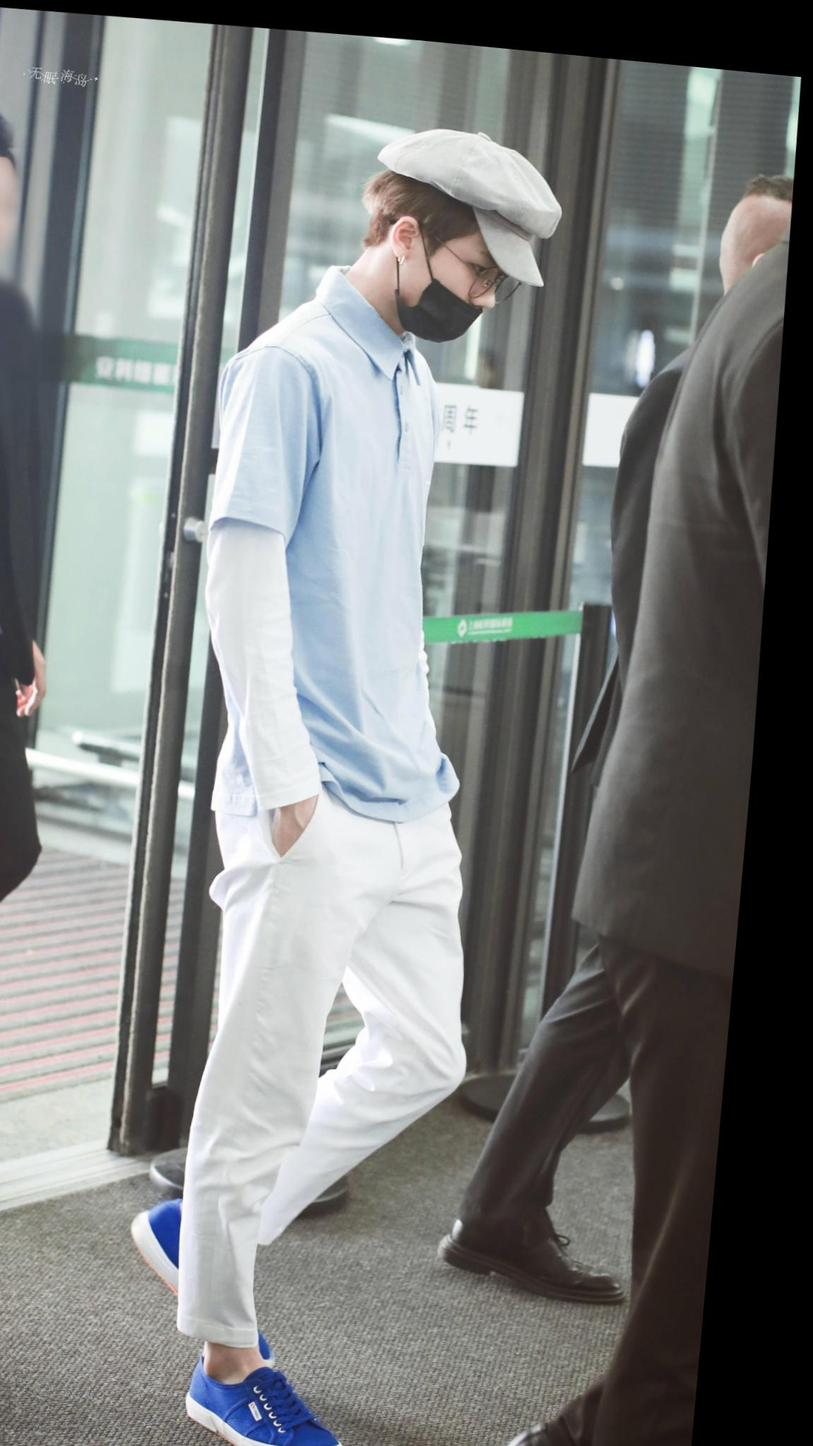NONE: (1, 167, 32, 286)
WRONG: (417, 218, 508, 337)
